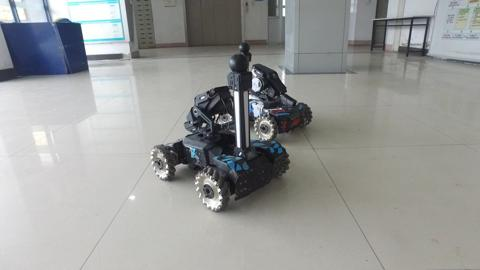chariot: (155, 54, 295, 220)
